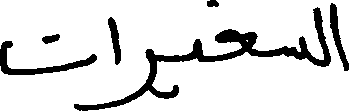ا: (330, 0, 348, 71), (104, 15, 121, 67)
ت: (0, 32, 98, 77)
خ: (205, 0, 257, 63)
ر: (126, 46, 158, 103)
س: (283, 34, 307, 60)
ل: (313, 0, 331, 67)
ي: (158, 36, 203, 101)
